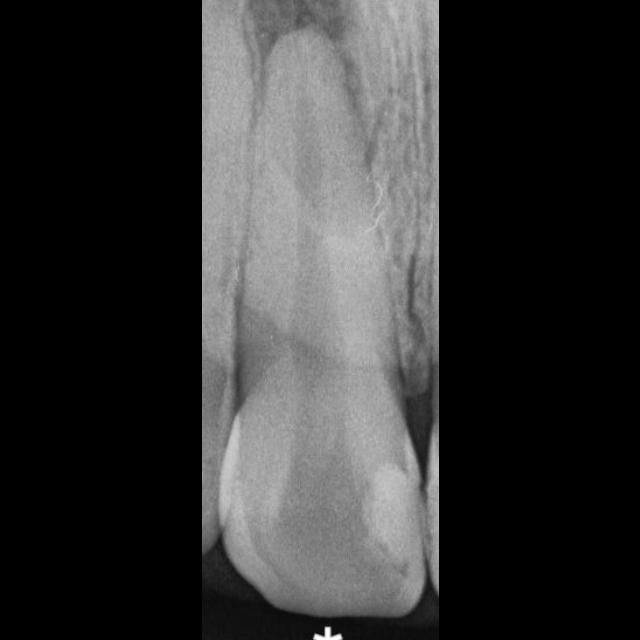tooth: (201, 0, 438, 620)
